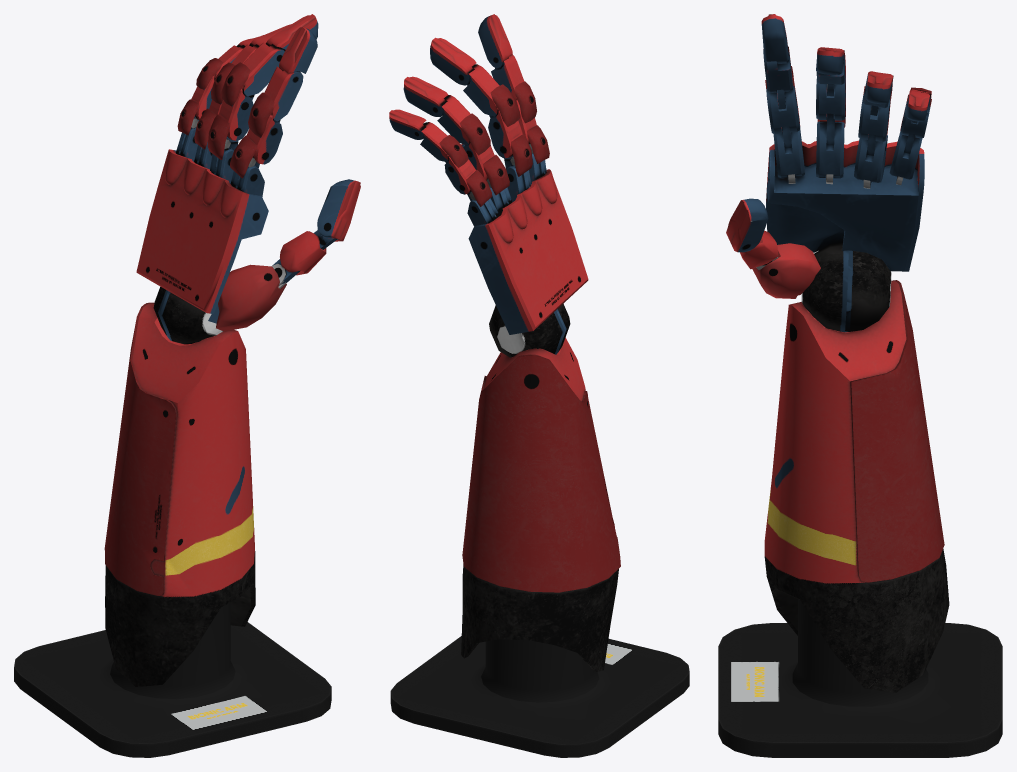
Rendered from arm.fbx.
3 renders of one model, left to right at view 1: azimuth 30°, elevation 25°; view 2: azimuth 150°, elevation 25°; view 3: azimuth 270°, elevation 25°, orthographic. The views are drawn at different scales.
Parts seen in each view (by area): view 1: cf_bionic_arm, pCube1; view 2: cf_bionic_arm, pCube1; view 3: cf_bionic_arm, pCube1.
Part boxes in pixels (<box>): cf_bionic_arm: <box>104,14,360,686</box>; pCube1: <box>14,602,331,757</box>; cf_bionic_arm: <box>389,14,620,671</box>; pCube1: <box>390,636,689,757</box>; cf_bionic_arm: <box>726,14,949,692</box>; pCube1: <box>718,599,1002,757</box>.
Bounding box in the file's own units: 7.57 × 19.42 × 6.83.
